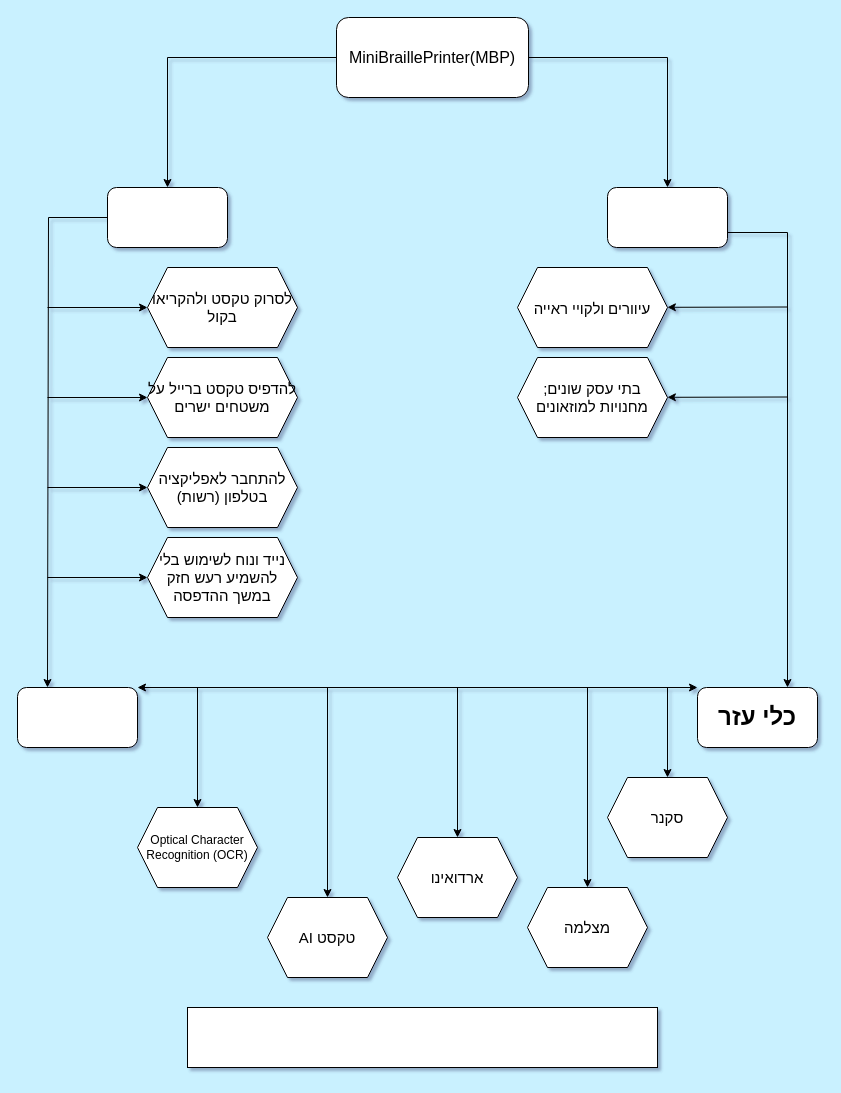
Image size: 841x1093. Some labels were removed from this diagram. Each missing label, with the centre of its shape:
טכנולוגיות בשימוש: pixel 77 717
פעולות: pixel 167 217
קהל יעד: pixel 667 217
רוב הסיכוי שינויים רבים ייקרו והכלים עם האפשרויות גם כן: pixel 422 1037
